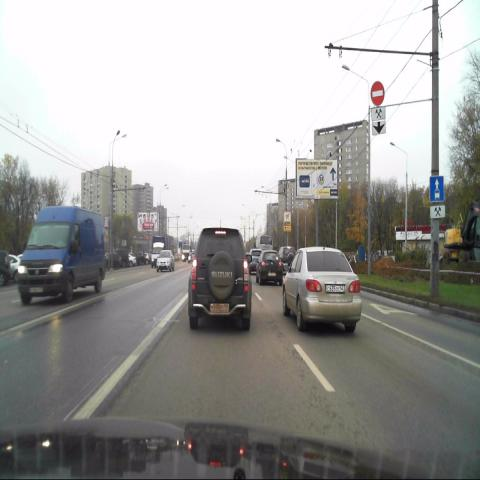5_14: (430, 176, 444, 202)
